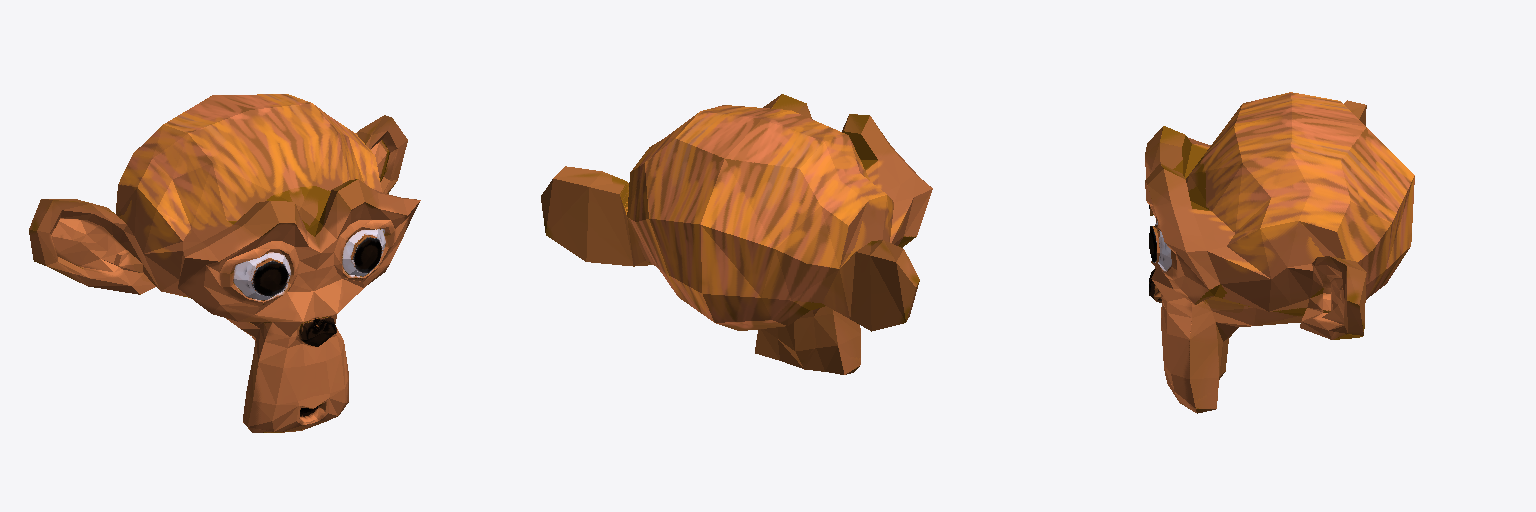
The picture shows the model from 3 angles: view 1: azimuth 30°, elevation 25°; view 2: azimuth 150°, elevation 25°; view 3: azimuth 270°, elevation 25°; orthographic projection.
Visible parts, largest first — view 1: Suzanne; view 2: Suzanne; view 3: Suzanne.
Part boxes in pixels (x1,y1,x2,y2): Suzanne: (29, 94, 420, 432); Suzanne: (541, 94, 932, 374); Suzanne: (1145, 92, 1414, 413).
Bounding box in the file's own units: 2.73 × 1.97 × 1.7.
Materials: 1 (1 with a texture image).